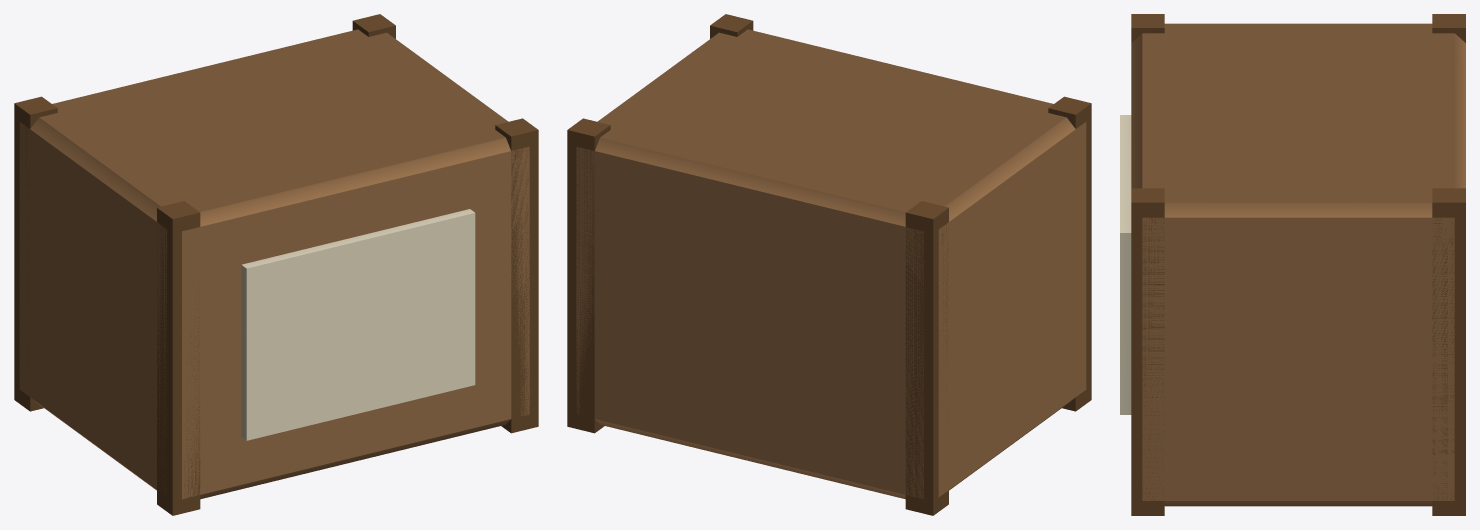
File: element_crate.glb
3 views of the same model, side by side, from view 1: azimuth 30°, elevation 25°; view 2: azimuth 150°, elevation 25°; view 3: azimuth 270°, elevation 25° (orthographic). The views are drawn at different scales.
Parts seen in each view (by area): view 1: element_crate; view 2: element_crate; view 3: element_crate.
Boxes of the visible parts, box(x1,y1,x2,y2) form: element_crate: box(14, 14, 538, 515); element_crate: box(567, 14, 1091, 515); element_crate: box(1120, 14, 1465, 515).
Size of the model in its own units: 0.8 by 0.62 by 0.62.
